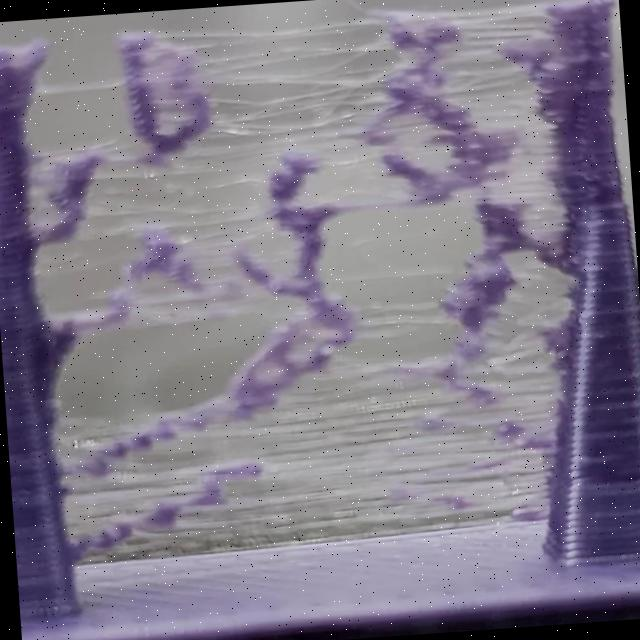stringing: (238, 401, 550, 547), (40, 392, 254, 564), (444, 156, 580, 417), (347, 8, 562, 157), (226, 306, 463, 439), (116, 34, 342, 164), (159, 150, 381, 252), (8, 136, 165, 242), (46, 252, 208, 334), (198, 240, 322, 316)
